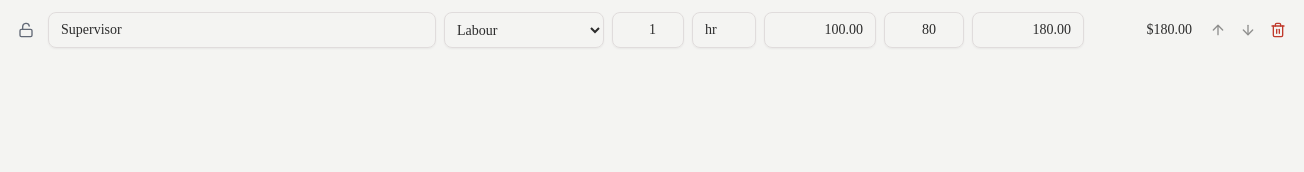
it: editing the cost keeps the sell and re-derives the markup
This screenshot has width=1304, height=172.
Replace the text in the field named "Unit cost" with "120" at (820, 30), box [764,12,876,48]
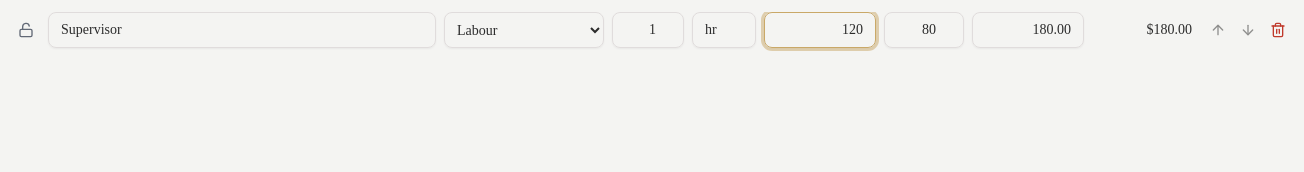
Press Tab
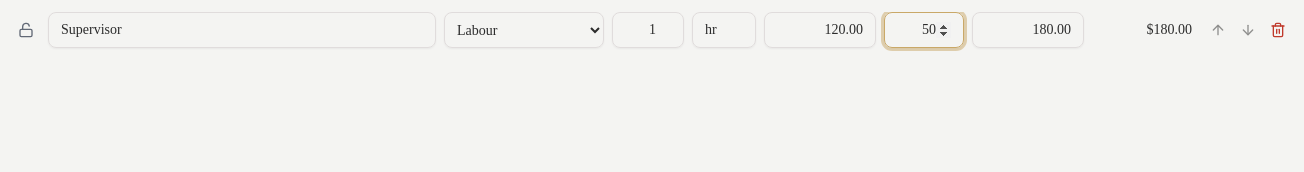
Expected: the field named "Unit sell" holds "180.00", [972,12,1084,48]
Expected: the number field named "Markup %" holds "50", [884,12,964,48]
